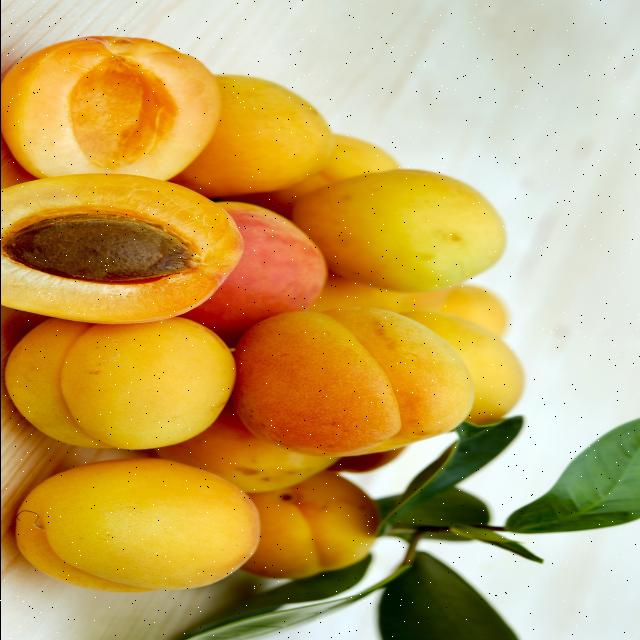Cekirdek: (3, 214, 202, 283)
Kayisi: (0, 174, 242, 324)
